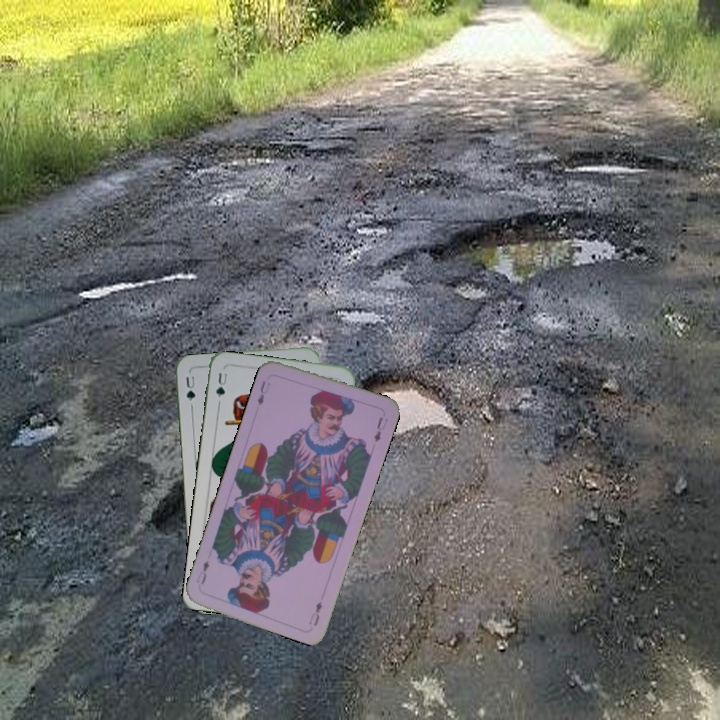EU: (305, 597, 325, 628), (253, 377, 272, 408)
GU: (212, 369, 231, 400), (182, 372, 198, 404)
